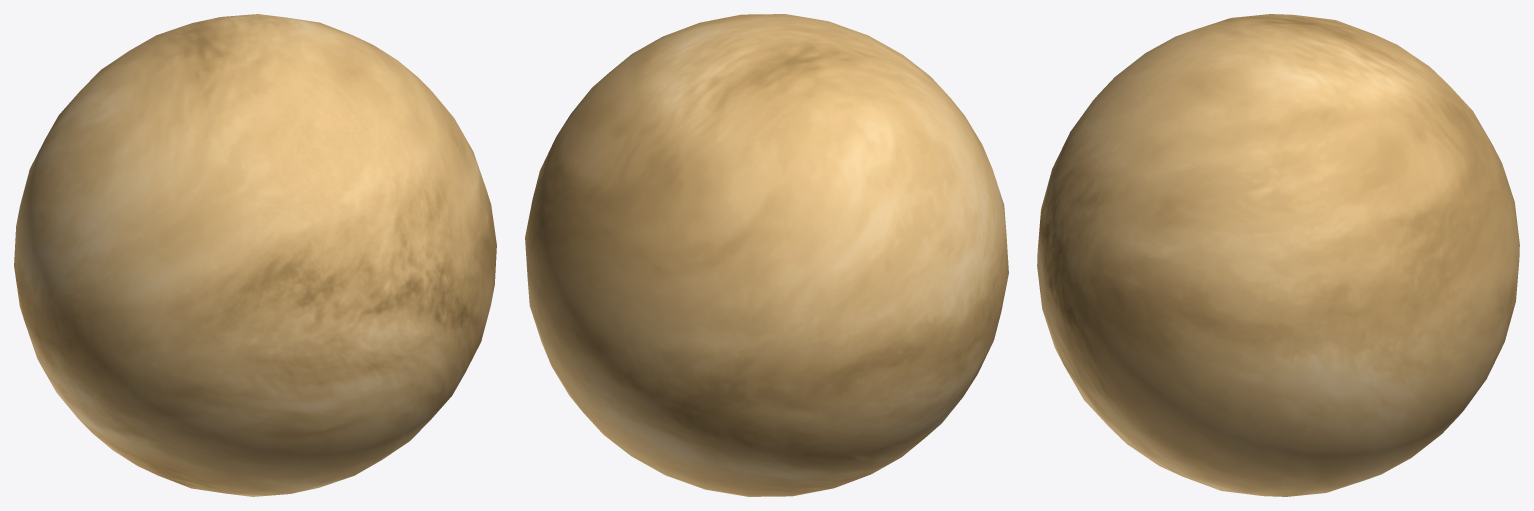
File: venus.obj
The picture shows the model from 3 angles, left to right: view 1: azimuth 30°, elevation 25°; view 2: azimuth 150°, elevation 25°; view 3: azimuth 270°, elevation 25°; orthographic projection.
Parts seen in each view (by area): view 1: Atmosphere; view 2: Atmosphere; view 3: Atmosphere.
Boxes of the visible parts, x1=… form: Atmosphere: x1=14, y1=14, x2=496, y2=496; Atmosphere: x1=525, y1=14, x2=1008, y2=496; Atmosphere: x1=1037, y1=14, x2=1519, y2=496.
Bounding box in the file's own units: 1.23 × 1.23 × 1.22.
Materials: 2 (2 with a texture image).
